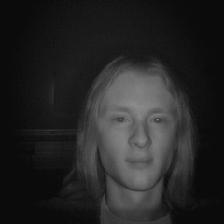normal: (65, 37, 196, 199)
